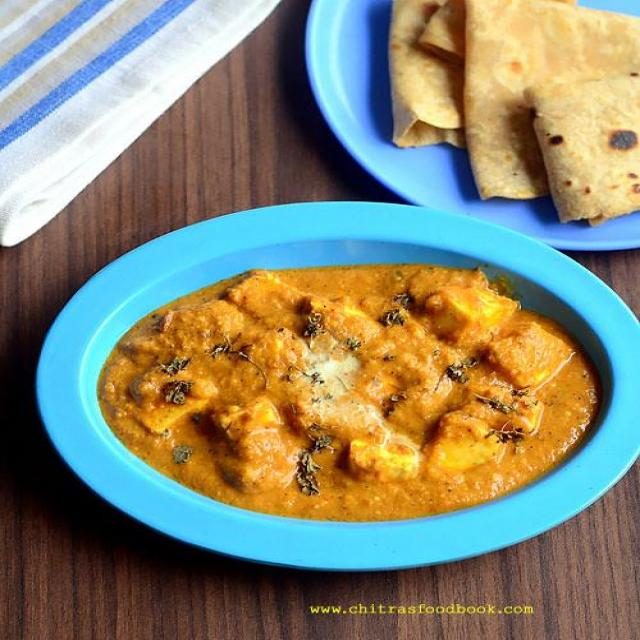roti: (369, 7, 640, 214)
